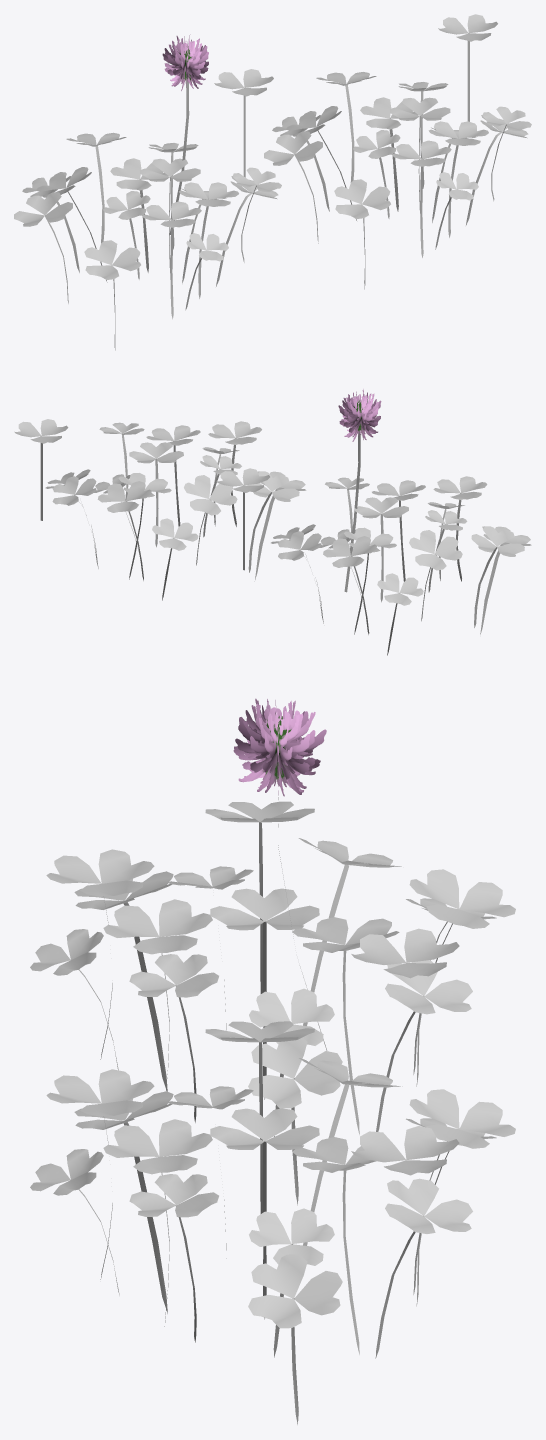
Rendered from Clover.fbx.
3 renders of one model, top to bottom at view 1: azimuth 30°, elevation 25°; view 2: azimuth 150°, elevation 25°; view 3: azimuth 270°, elevation 25°, orthographic. The views are drawn at different scales.
Visible parts, largest first — view 1: Clover_red_Bundle_A_LOD0, Clover_Bundle_A_LOD0, Clover_Flower_LOD0, Clover_red_LOD0, Clover_LOD0; view 2: Clover_Bundle_A_LOD0, Clover_red_Bundle_A_LOD0, Clover_Flower_LOD0, Clover_red_LOD0, Clover_LOD0; view 3: Clover_red_Bundle_A_LOD0, Clover_Bundle_A_LOD0, Clover_Flower_LOD0, Clover_red_LOD0, Clover_LOD0.
Part boxes in pixels (x1,y1,x2,y2): Clover_red_Bundle_A_LOD0: (264,72,531,289); Clover_Bundle_A_LOD0: (14,132,281,350); Clover_Flower_LOD0: (162,34,208,234); Clover_red_LOD0: (438,14,497,121); Clover_LOD0: (214,69,273,177); Clover_Bundle_A_LOD0: (271,476,531,655); Clover_red_Bundle_A_LOD0: (45,421,306,600); Clover_Flower_LOD0: (338,389,381,592); Clover_red_LOD0: (14,419,68,520); Clover_LOD0: (216,468,269,570); Clover_red_Bundle_A_LOD0: (30,1021,515,1424); Clover_Bundle_A_LOD0: (30,801,515,1205); Clover_Flower_LOD0: (233,698,327,1050); Clover_red_LOD0: (351,1126,459,1175); Clover_LOD0: (351,928,459,978).
Size of what is drawn, in the model's own units: 2.3 by 1.16 by 1.04.
